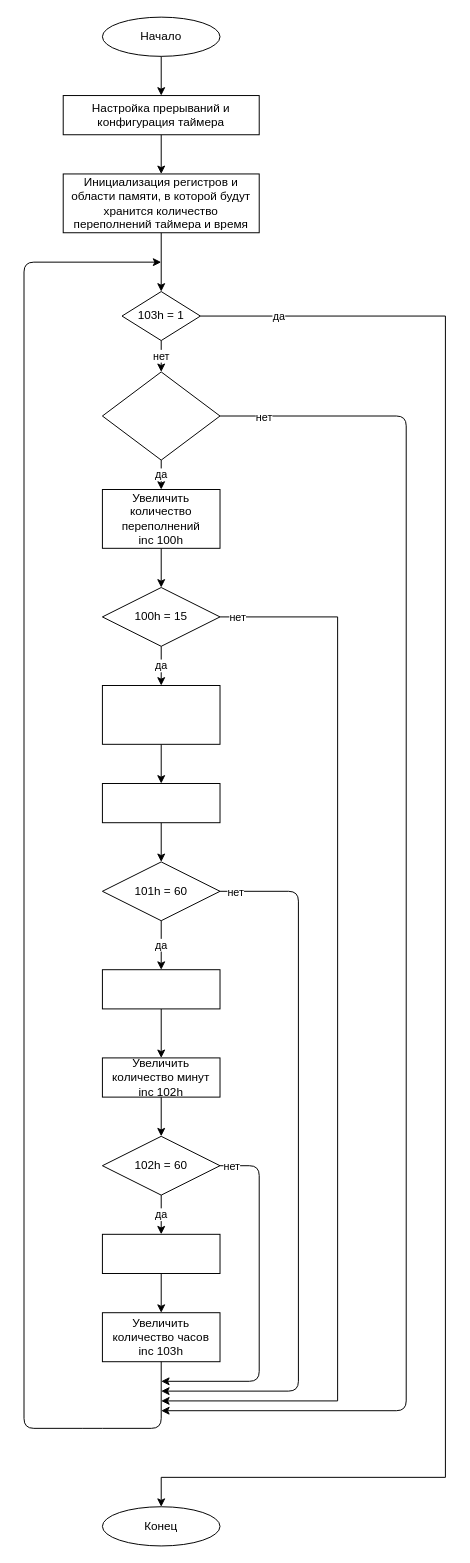
The diagram is 470 pixels wide and 1563 high, and some of its shapes have lost their labels. Here are the shapes that lost their labels. From the top down, the centre of each, then its label:
At point (160, 415): "Произошло прерывание по вектору 0Bh?".
At point (160, 714): "Сбросить количество переполнений mov 100h, #0".
At point (160, 803): "Увеличить количество секунд inc 101h".
At point (160, 989): "Сбросить количество секунд mov 101h, #0".
At point (160, 1253): "Сбросить количество минут mov 102h, #0".
